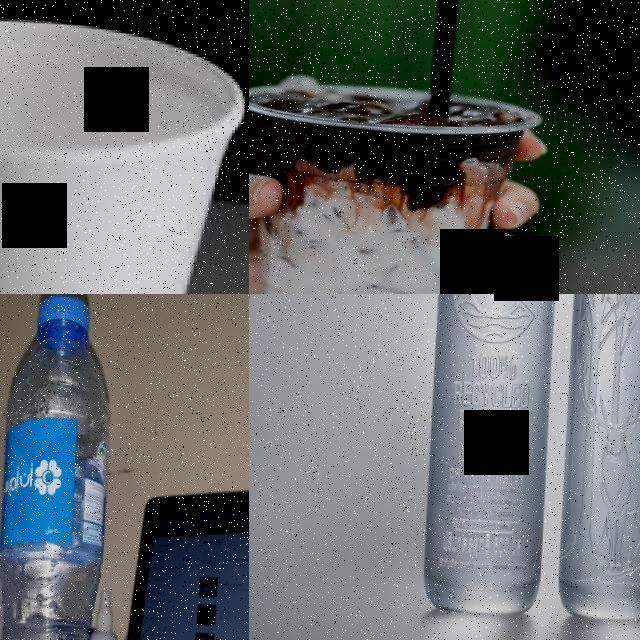bottle: (419, 294, 570, 619), (0, 294, 122, 640), (552, 294, 640, 628)
cup: (0, 10, 249, 294), (249, 78, 546, 294)
